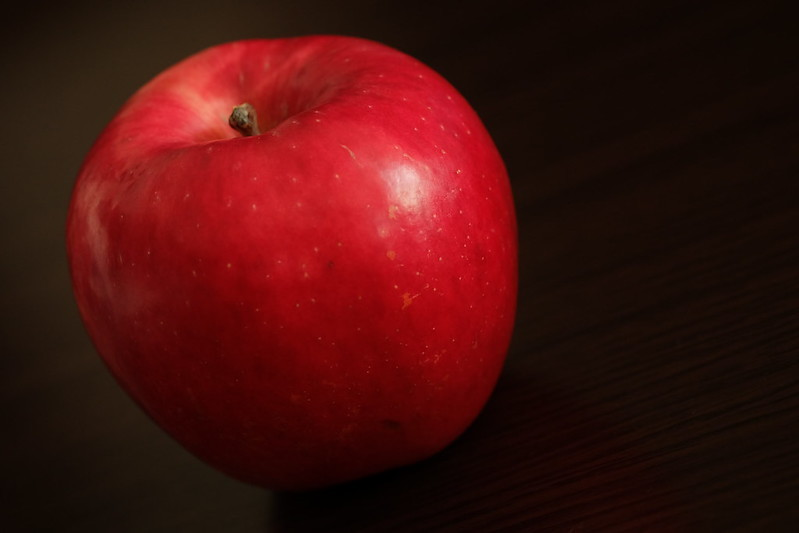apple: (55, 34, 539, 505)
